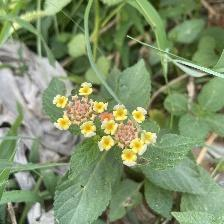common lanthana: (54, 81, 167, 165)
